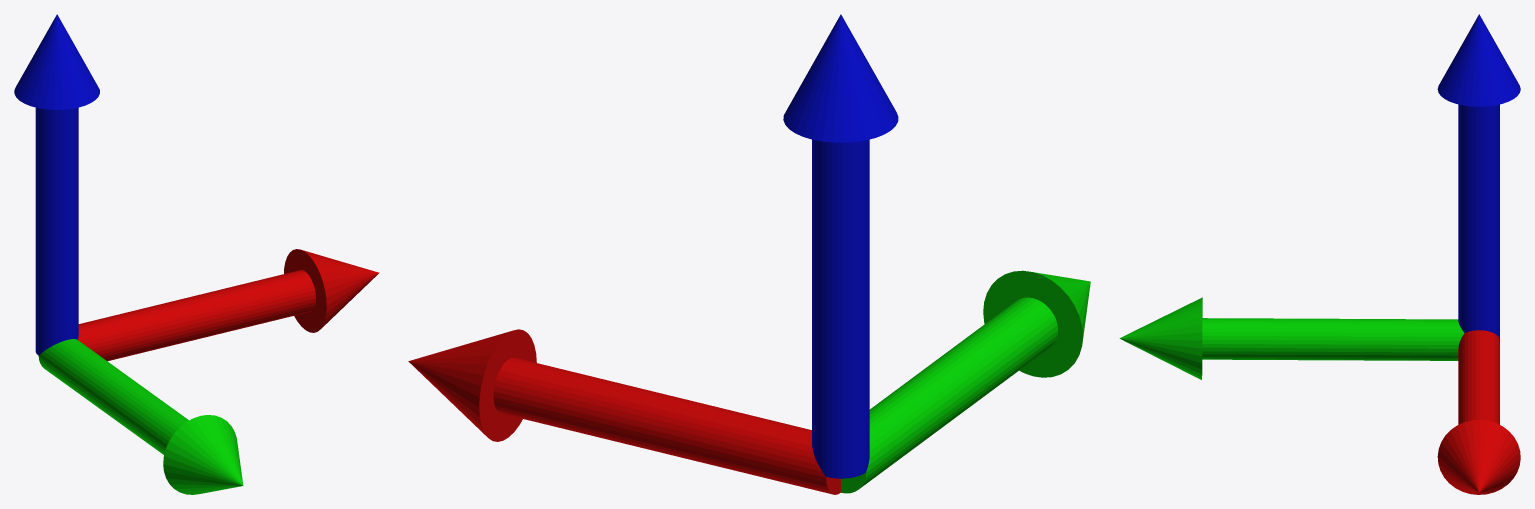
File: Arrows.dae
3 views of the same model, side by side, from view 1: azimuth 30°, elevation 25°; view 2: azimuth 150°, elevation 25°; view 3: azimuth 270°, elevation 25° (orthographic). The views are drawn at different scales.
Parts seen in each view (by area): view 1: Blue, Red, Green; view 2: Blue, Red, Green; view 3: Green, Blue, Red.
Part boxes in pixels (left/top/right/bottom): Blue: left=14, top=14, right=99, bottom=355; Red: left=78, top=249, right=379, bottom=361; Green: left=38, top=339, right=243, bottom=494; Blue: left=783, top=14, right=898, bottom=478; Red: left=408, top=329, right=840, bottom=494; Green: left=841, top=270, right=1090, bottom=493; Green: left=1119, top=297, right=1464, bottom=379; Blue: left=1437, top=14, right=1520, bottom=338; Red: left=1437, top=330, right=1520, bottom=494.
Size of the model in its own units: 9.67 by 9.66 by 9.66.
